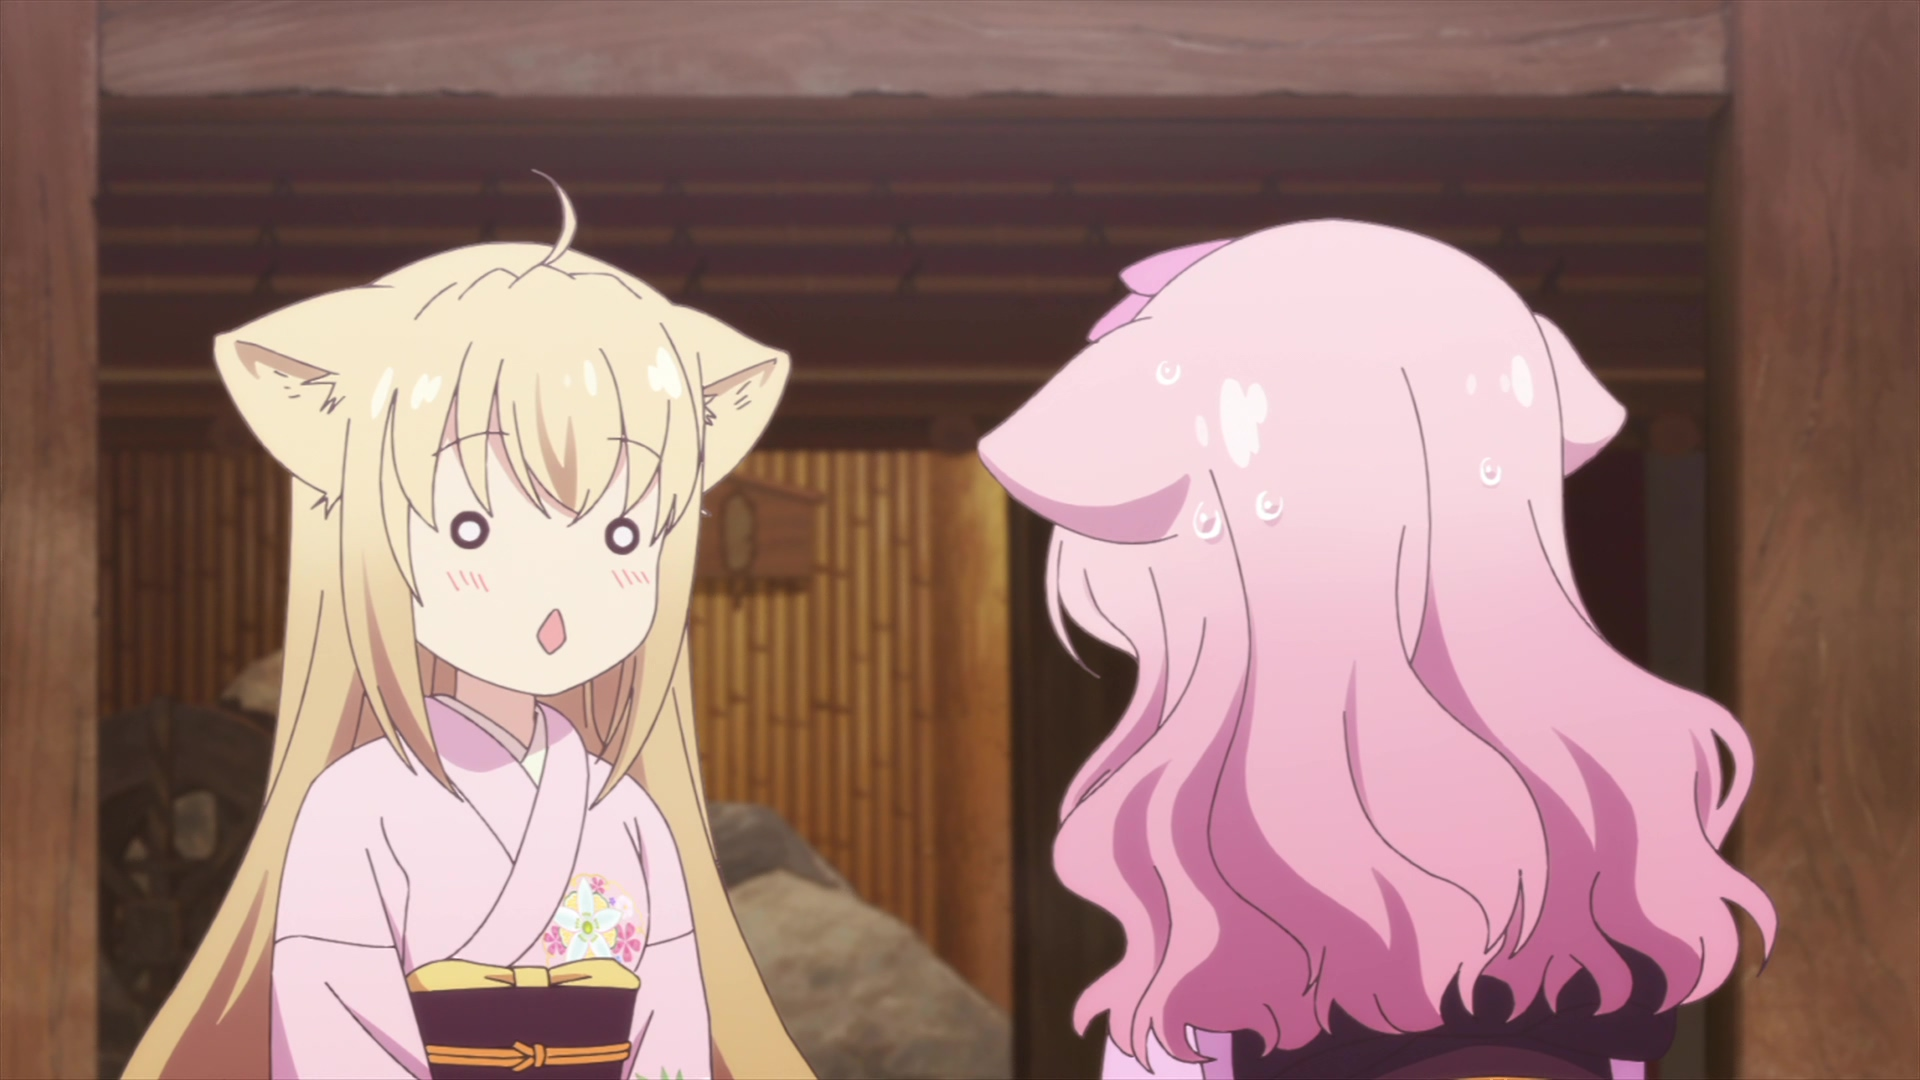柚: (123, 167, 811, 1080)
莲: (978, 219, 1775, 1080)
